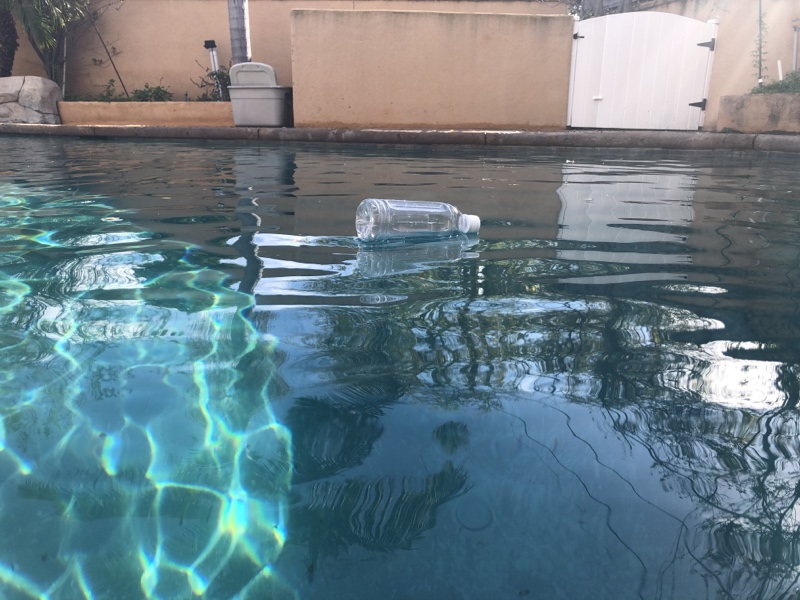Plastic Bottle: (353, 195, 482, 246)
